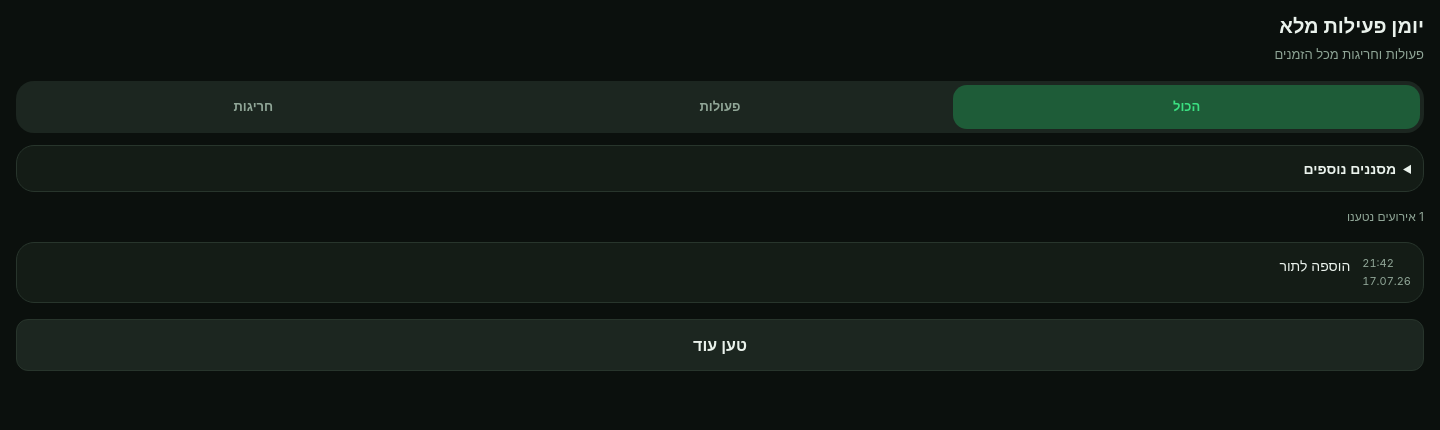
Scenario: ActivityFeed full-log filters › appends cursor pages without replacing previously loaded history
Expected: the text "הוספה לתור" is shown, [1280,254,1350,276]
Click the button "טען עוד". click: click(720, 344)
box: [16,318,1424,370]
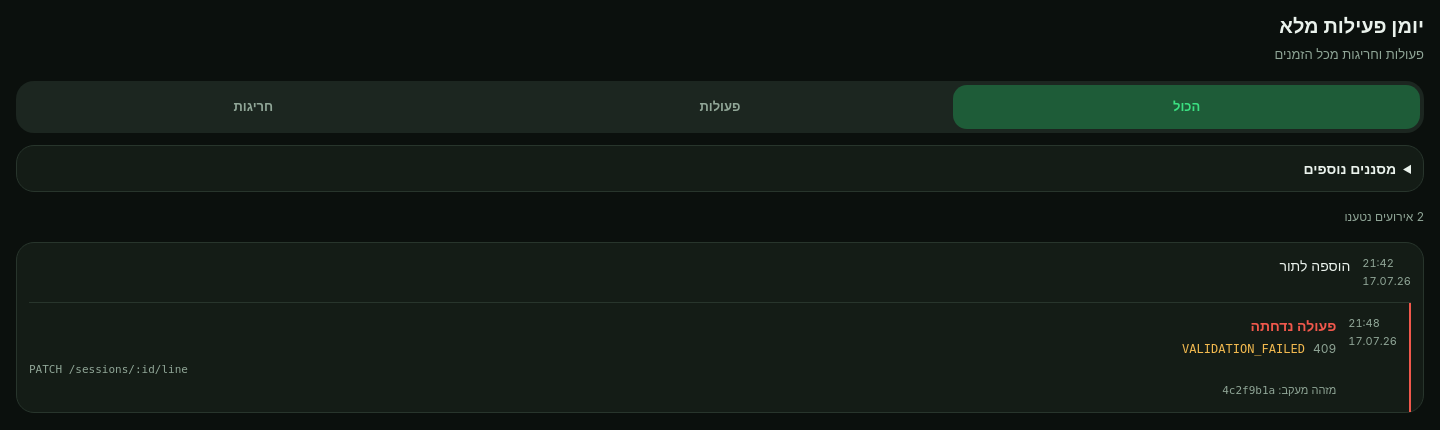
Expected: the text "הוספה לתור" is shown, [1280,254,1350,276]
Now the text "פעולה נדחתה" is shown, box [1250,316,1336,334]
